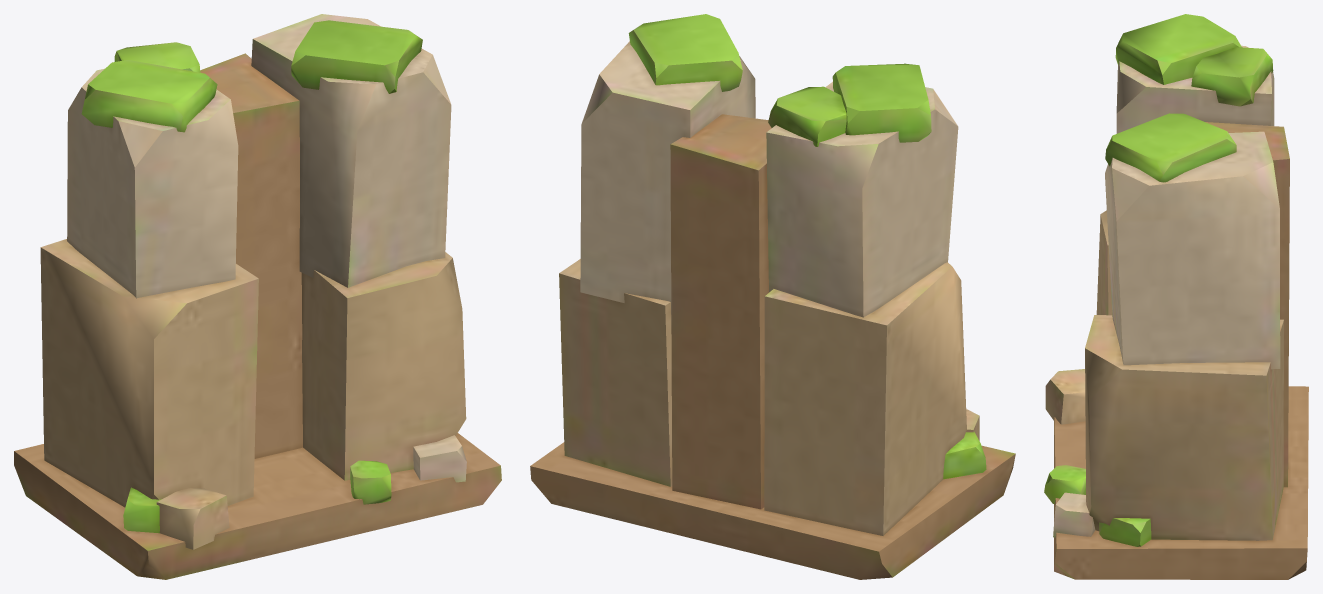
The model's file is skyline-cliff.glb.
The picture shows the model from 3 angles, left to right: view 1: azimuth 30°, elevation 25°; view 2: azimuth 150°, elevation 25°; view 3: azimuth 270°, elevation 25°; orthographic projection. The views are drawn at different scales.
Visible parts, largest first — view 1: skyline-cliff; view 2: skyline-cliff; view 3: skyline-cliff.
Part boxes in pixels (x1,y1,x2,y2): skyline-cliff: [14, 14, 501, 579]; skyline-cliff: [530, 14, 1015, 579]; skyline-cliff: [1044, 14, 1308, 579].
Bounding box in the file's own units: 17.59 × 20.8 × 12.09.
4 materials, 4 textured.
